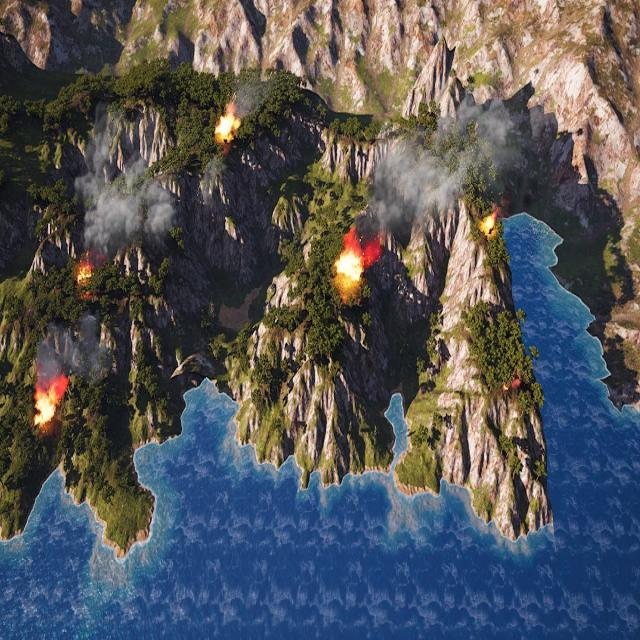fire: (34, 386, 62, 427), (336, 247, 364, 285), (215, 111, 238, 141), (76, 263, 92, 285), (481, 213, 497, 235), (501, 376, 520, 392)
smoke: (354, 94, 518, 236), (75, 123, 179, 261), (38, 317, 104, 383), (232, 82, 265, 121)
